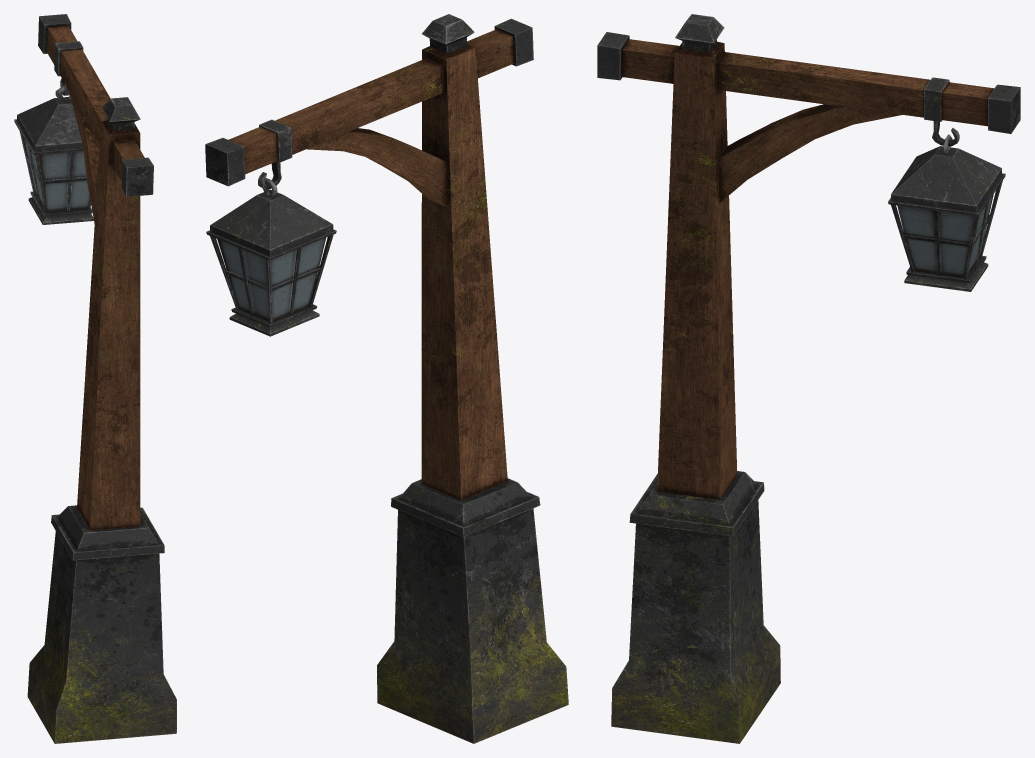
Rendered from lamp_post2.obj.
3 renders of one model, left to right at view 1: azimuth 30°, elevation 25°; view 2: azimuth 150°, elevation 25°; view 3: azimuth 270°, elevation 25°, orthographic. The views are drawn at different scales.
Parts seen in each view (by area): view 1: E9_Lamp_meshId0_name; view 2: E9_Lamp_meshId0_name; view 3: E9_Lamp_meshId0_name.
Boxes of the visible parts, x1,y1,x2,y2 form: E9_Lamp_meshId0_name: [14, 14, 176, 743]; E9_Lamp_meshId0_name: [205, 14, 568, 743]; E9_Lamp_meshId0_name: [597, 14, 1020, 743].
Bounding box in the file's own units: 1.77 × 5.67 × 3.11.
1 material, 1 textured.
